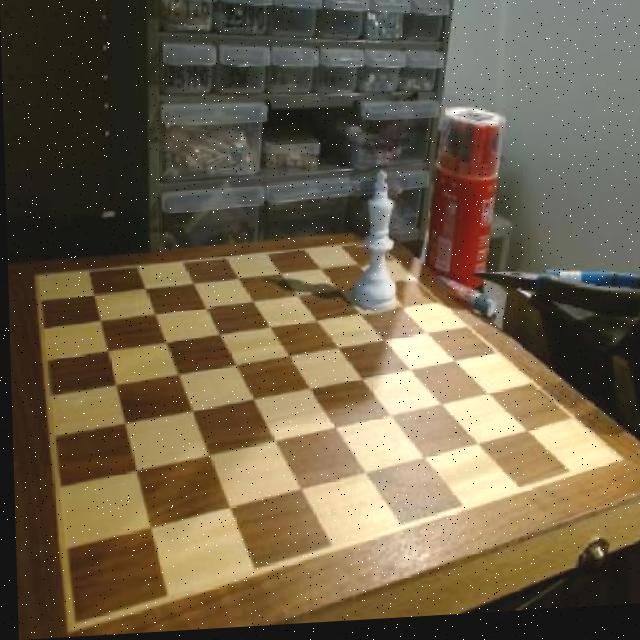white-bishop: (351, 169, 402, 318)
